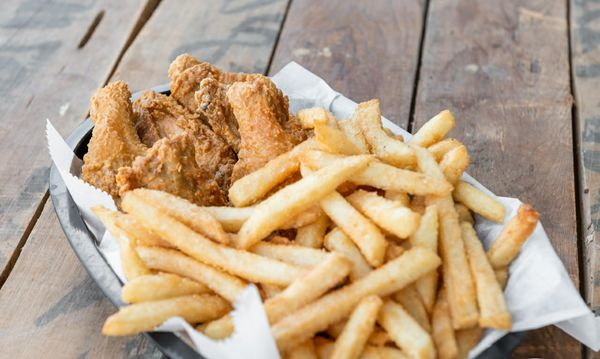curry: (0, 0, 552, 355)
